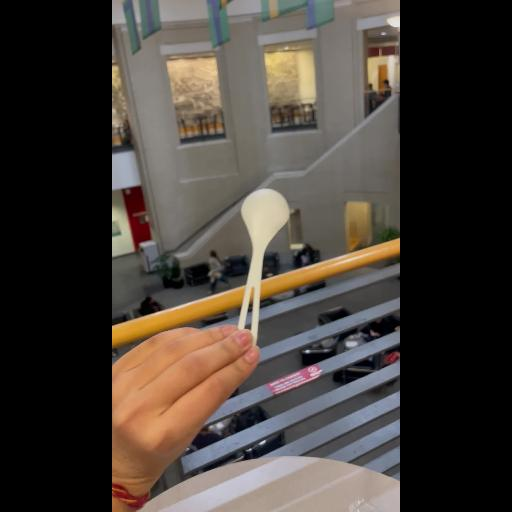utensil: (214, 178, 310, 360)
